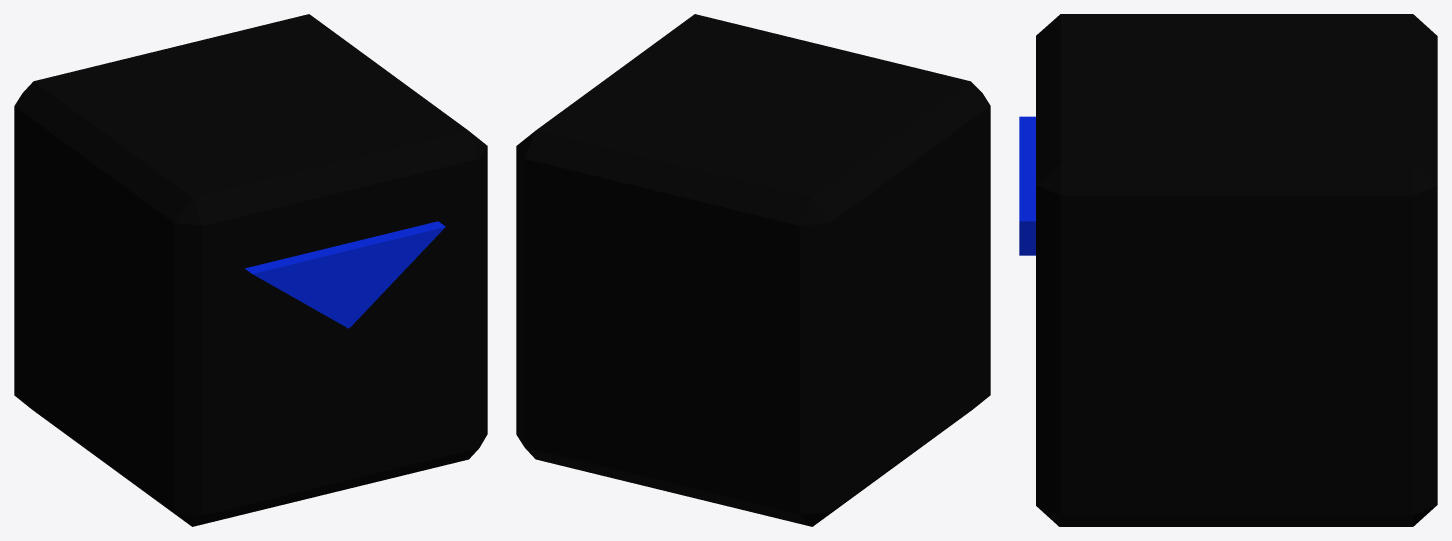
The model's file is Cube-Point-Bottom-With-Glow.fbx.
3 views of the same model, side by side, from view 1: azimuth 30°, elevation 25°; view 2: azimuth 150°, elevation 25°; view 3: azimuth 270°, elevation 25° (orthographic). The views are drawn at different scales.
Visible parts, largest first — view 1: Cube, Arrow; view 2: Cube; view 3: Cube, Arrow.
Part boxes in pixels (x1,y1,x2,y2): Cube: (14,14,487,526); Arrow: (245,221,445,328); Cube: (516,14,990,526); Cube: (1036,14,1437,526); Arrow: (1019,116,1035,255).
Bounding box in the file's own units: 40 × 41.68 × 40.
